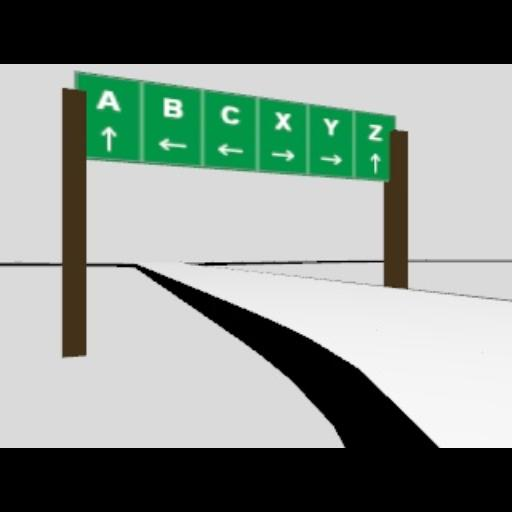A: (96, 90, 122, 112)
B: (164, 98, 184, 118)
C: (220, 104, 240, 124)
Left: (216, 143, 244, 157), (157, 138, 187, 150)
Right: (270, 148, 296, 162), (318, 152, 342, 164)
Straight: (101, 125, 117, 151), (370, 152, 380, 172)
X: (273, 110, 291, 130)
Y: (324, 118, 340, 138)
Z: (368, 122, 386, 142)
